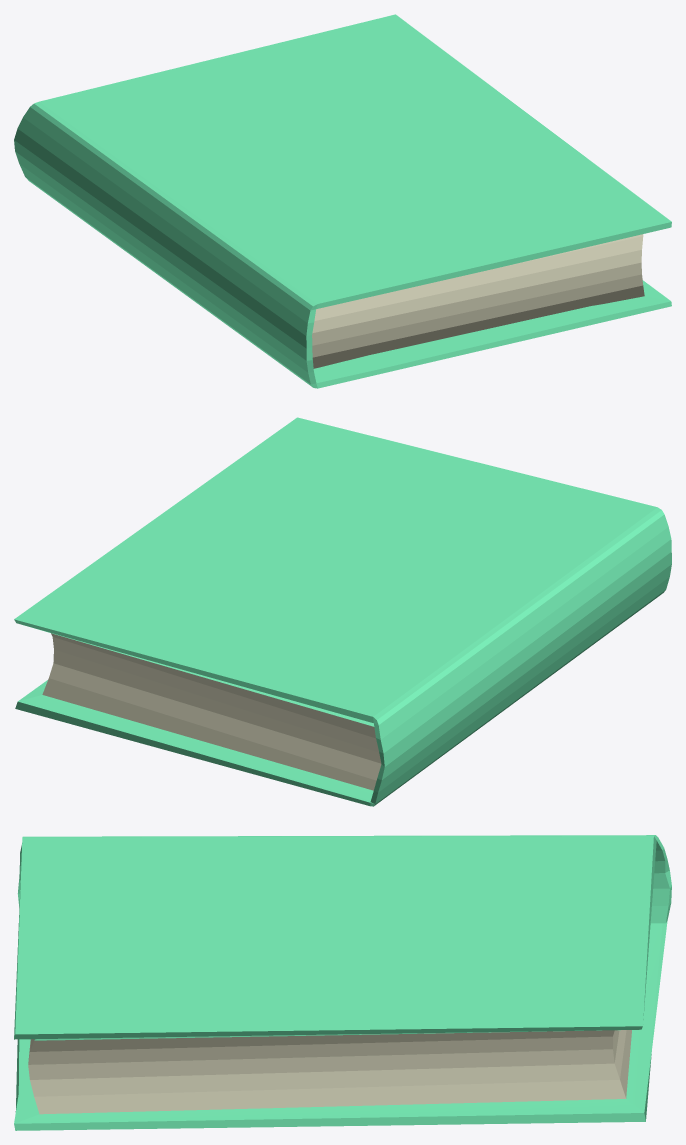
File: BookPastelGreen.fbx
3 renders of one model, top to bottom at view 1: azimuth 30°, elevation 25°; view 2: azimuth 150°, elevation 25°; view 3: azimuth 270°, elevation 25°, orthographic. The views are drawn at different scales.
Visible parts, largest first — view 1: Cube; view 2: Cube; view 3: Cube.
Part boxes in pixels (left/top/right/bottom): Cube: left=14, top=14, right=671, bottom=388; Cube: left=14, top=417, right=671, bottom=806; Cube: left=14, top=835, right=671, bottom=1130.
Bounding box in the file's own units: 182 × 42.66 × 245.
